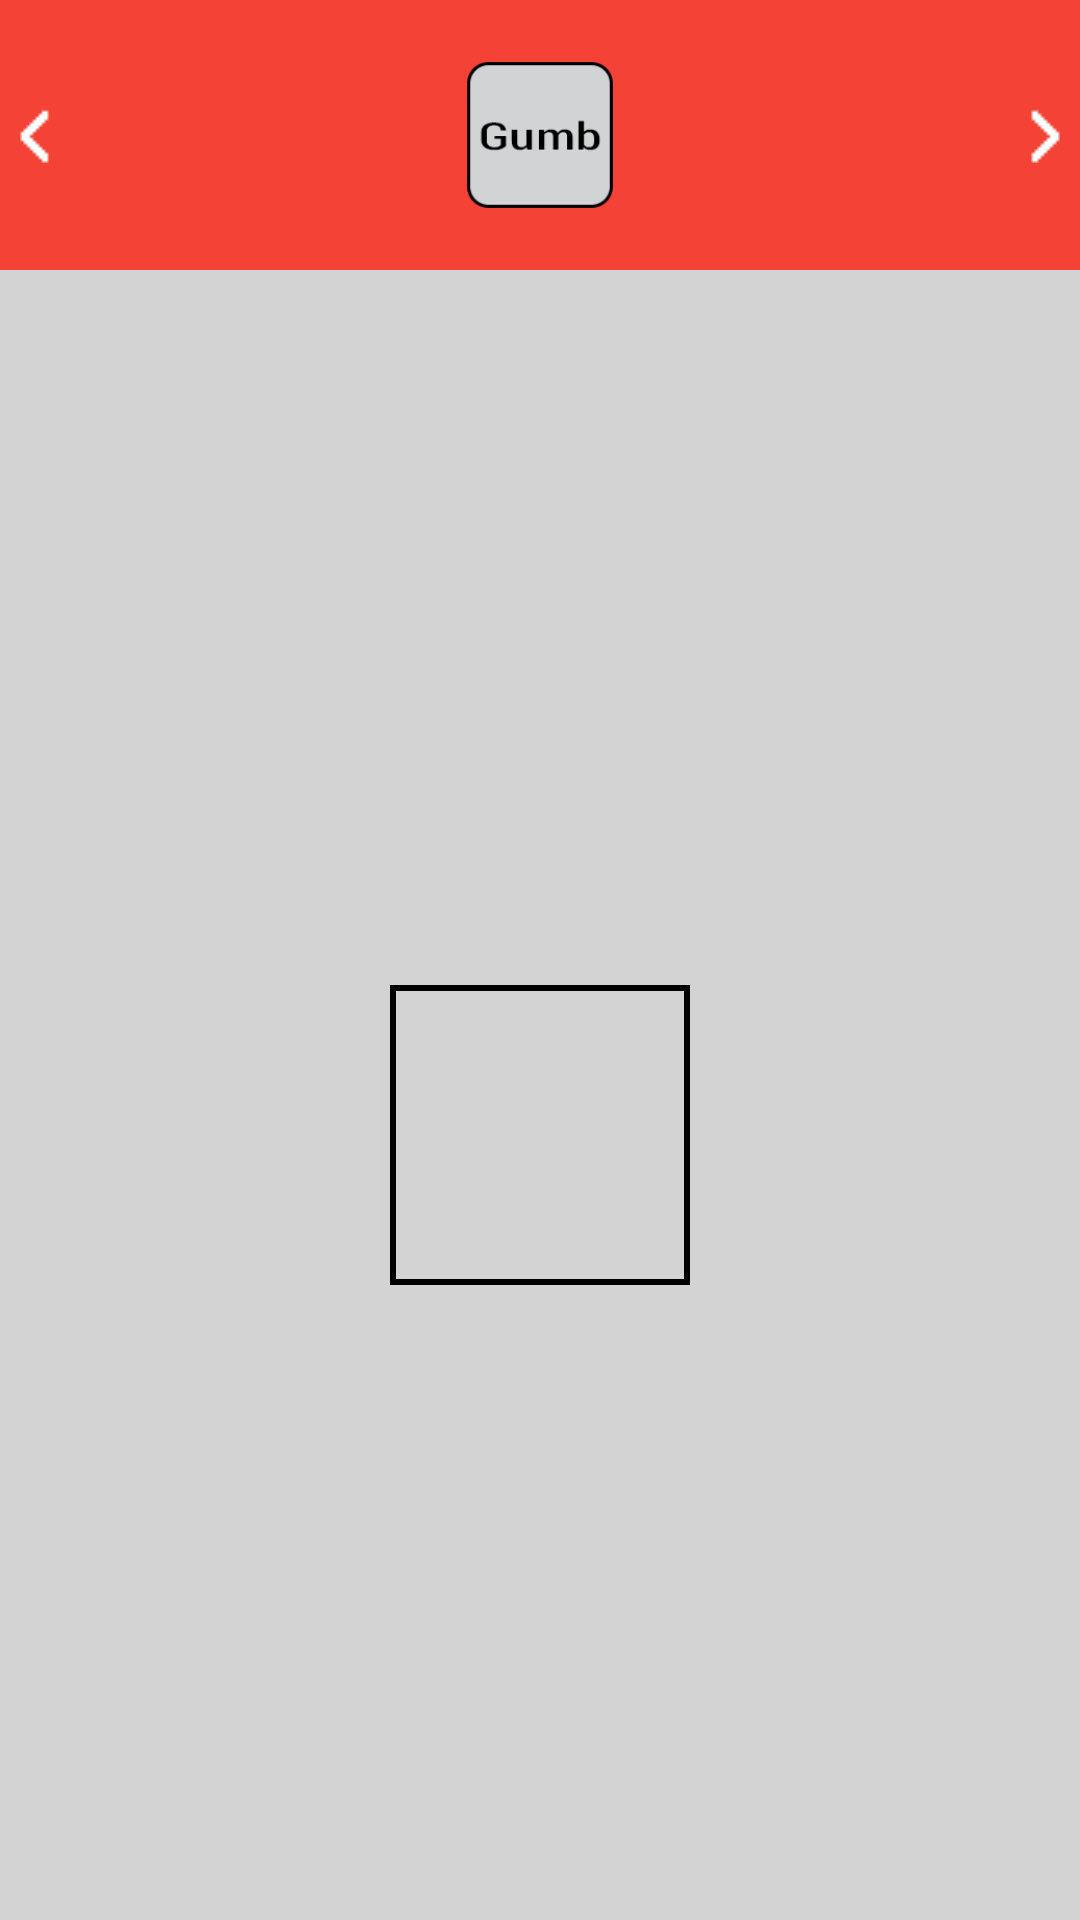

Named icons in this screenshot (1080w x 1920h) and their bounding boxes, (x1, y1, x2, y2):
arrowl: (20, 110, 49, 163)
arrowr: (1031, 110, 1060, 163)
